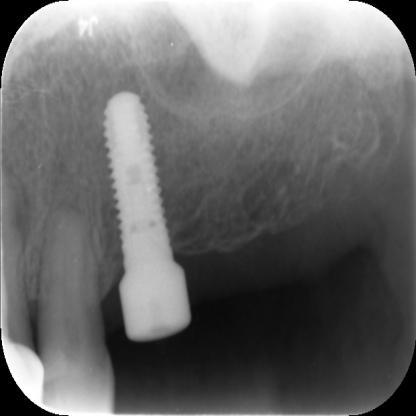Bego: (92, 76, 182, 282)
